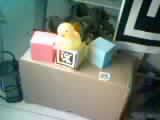duck: (42, 22, 84, 55)
